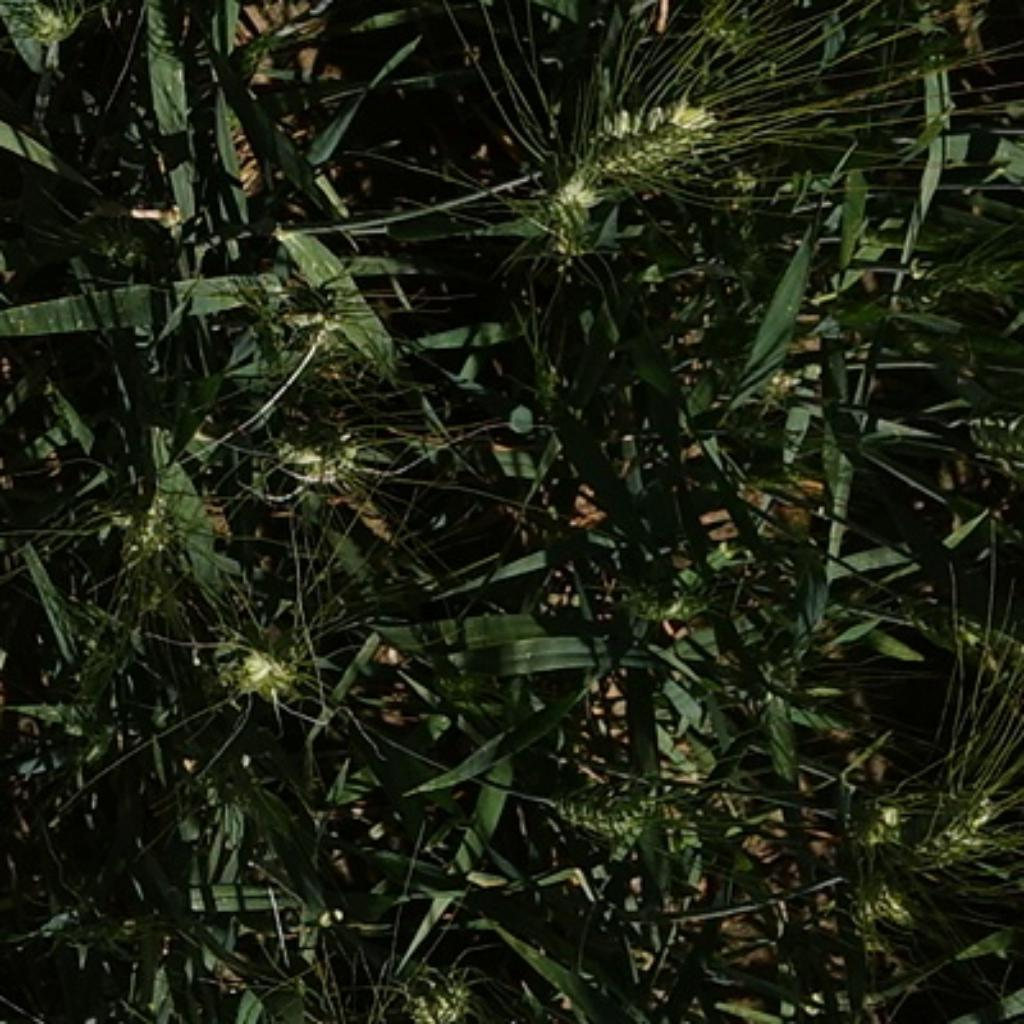0-0: (235, 245, 401, 396), (867, 768, 1024, 913), (576, 79, 724, 194), (107, 450, 227, 588), (532, 752, 688, 857), (834, 821, 947, 926), (263, 381, 373, 488), (898, 225, 1021, 309), (371, 936, 478, 1021), (522, 145, 609, 248), (220, 609, 309, 698), (69, 220, 176, 281), (0, 1, 86, 49)
